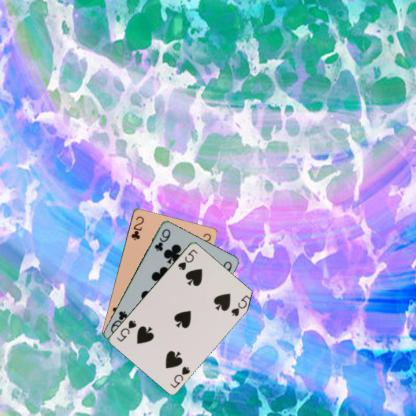2c: (128, 213, 145, 242)
5s: (175, 246, 199, 272), (168, 364, 191, 390)
9c: (152, 226, 172, 252)
